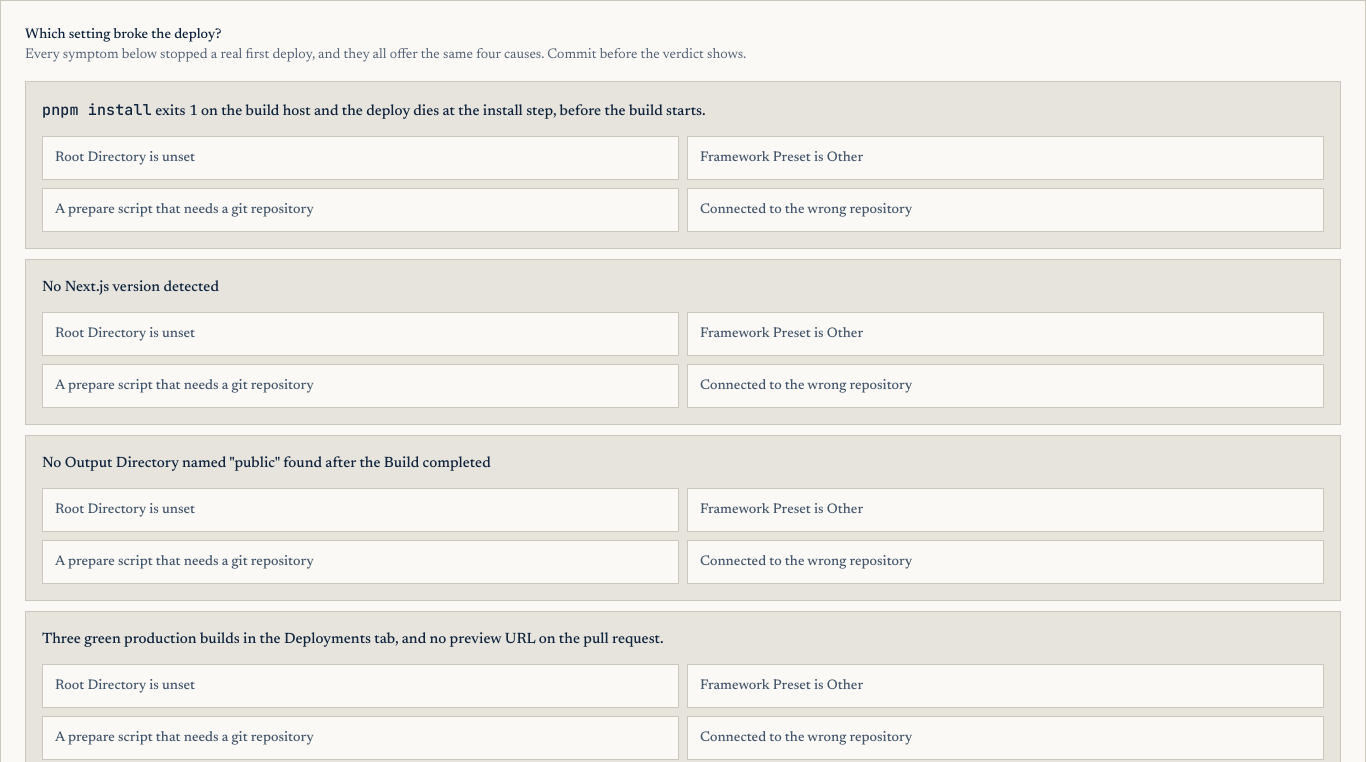
Scenario: scores across the whole set of four rather than per blocker
Click the radio button labelled "A prepare script that needs a git repository" below "pnpm install".
click(184, 210)  # box left=42, top=188, right=679, bottom=232
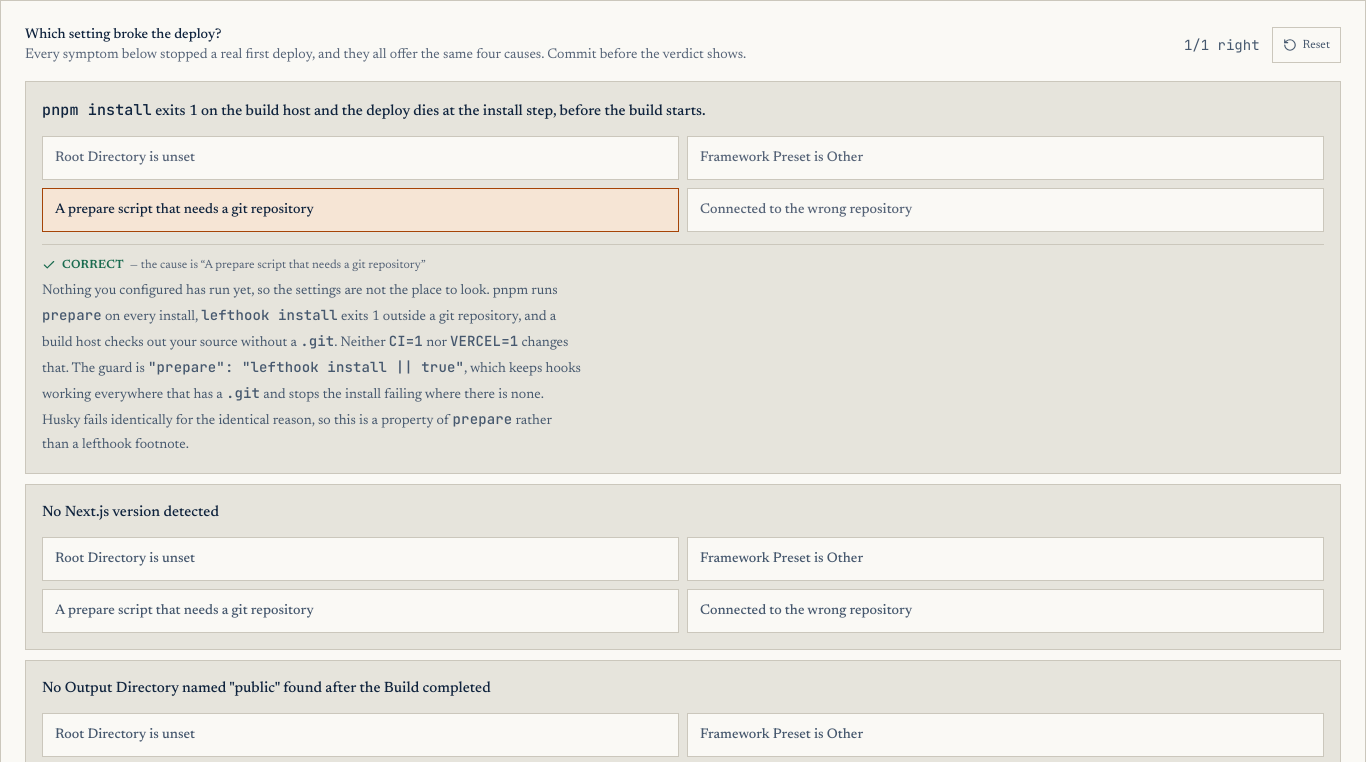
expect the text "1/1 right" is shown: met, box left=1184, top=35, right=1260, bottom=55
Click the 2nd radio button labelled "Framework Preset is Other".
click(782, 559)  # box left=687, top=537, right=1324, bottom=581
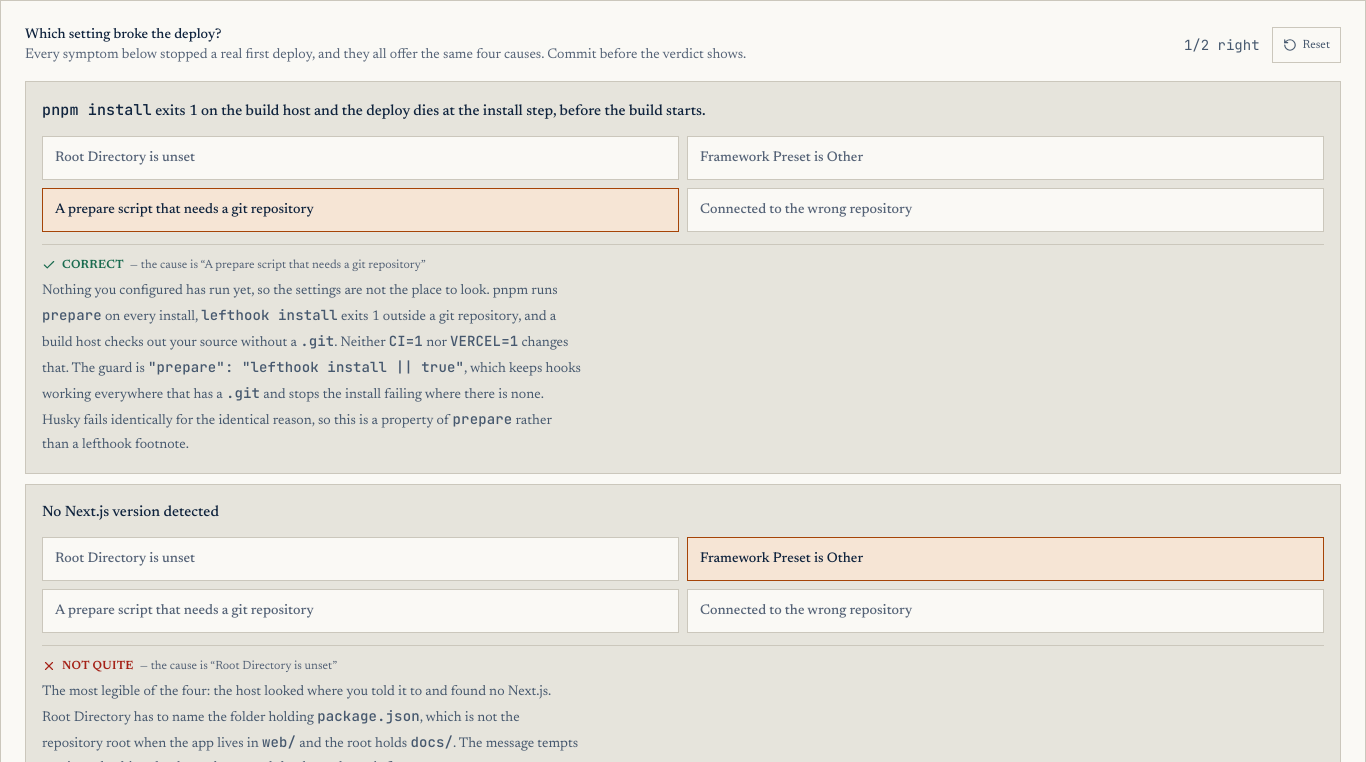
expect the text "1/2 right" is shown: met, box left=1184, top=35, right=1260, bottom=55
